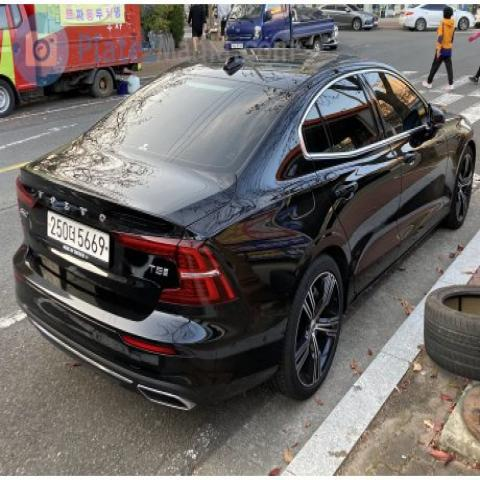LP: (41, 202, 119, 272)
